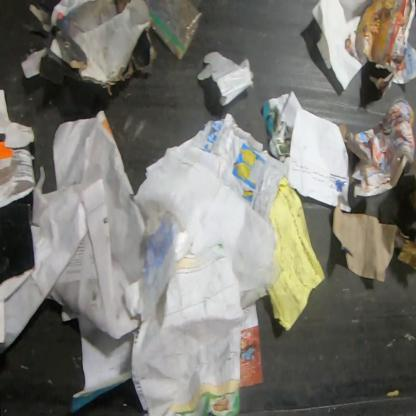cardboard: (19, 0, 159, 99), (332, 203, 411, 283)
soft_plastic: (196, 50, 256, 108)
